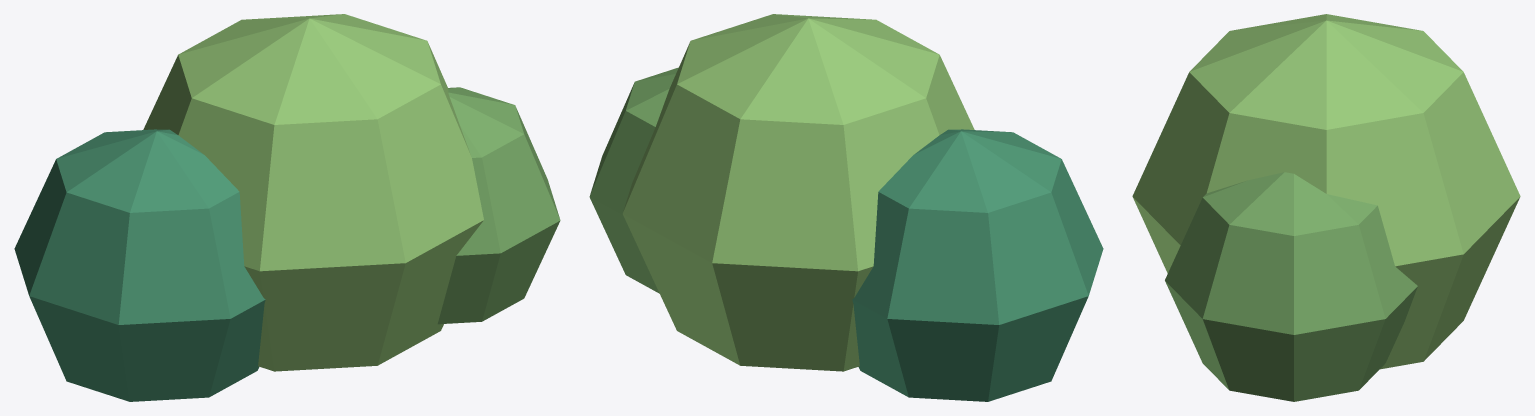
File: bush.glb
3 renders of one model, left to right at view 1: azimuth 30°, elevation 25°; view 2: azimuth 150°, elevation 25°; view 3: azimuth 270°, elevation 25°, orthographic.
Visible parts, largest first — view 1: bush; view 2: bush; view 3: bush.
Boxes of the visible parts, box(x1,y1,x2,y2) form: bush: box(14, 14, 560, 401); bush: box(589, 14, 1103, 401); bush: box(1132, 14, 1520, 401).
Bounding box in the file's own units: 1.81 × 1.2 × 1.2.
